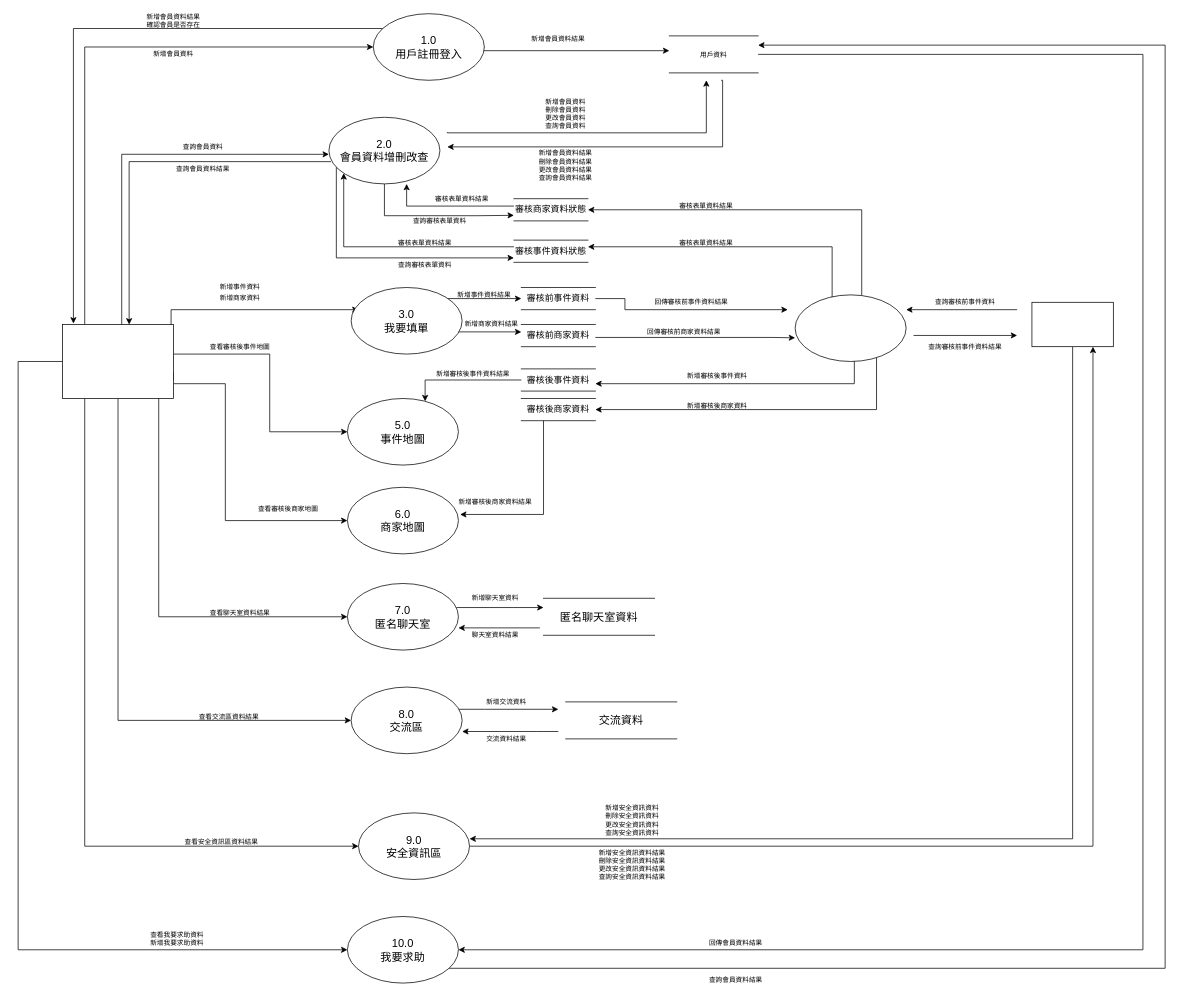
The diagram is 1184 pixels wide and 996 high, and some of its shapes have lost their labels. Here are the shapes that lost their labels. From the top down, the box of each, then its label:
(794, 294, 906, 361): 4.0 後端審核
(1031, 302, 1113, 347): 管理員
(62, 324, 174, 398): 用戶(個人/商家)
